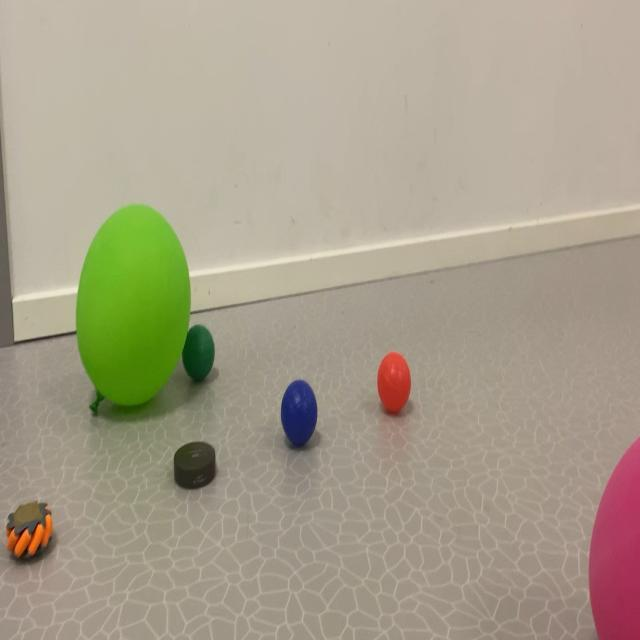blue ball: (271, 385, 330, 445)
green ball: (183, 324, 218, 386)
red ball: (370, 354, 418, 420)
